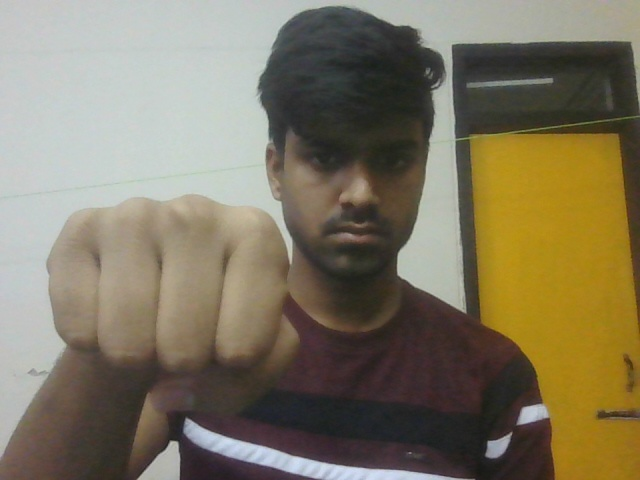yes: (26, 174, 336, 429)
